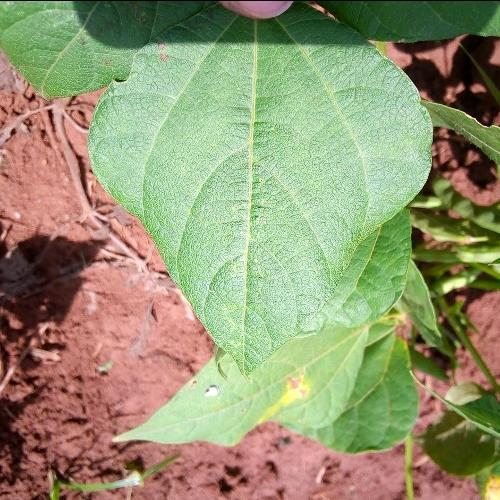sehat: (176, 69, 332, 257)
